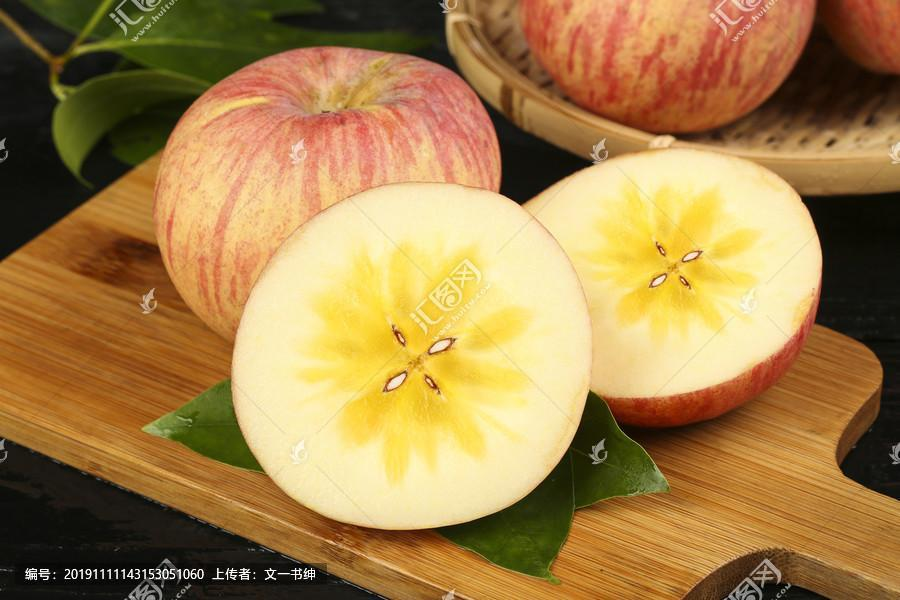apple: (147, 44, 492, 355), (504, 1, 815, 135)
